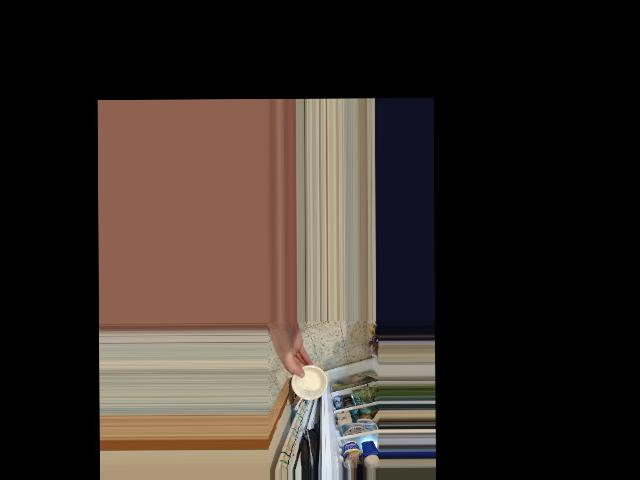cotage: (293, 369, 325, 400)
